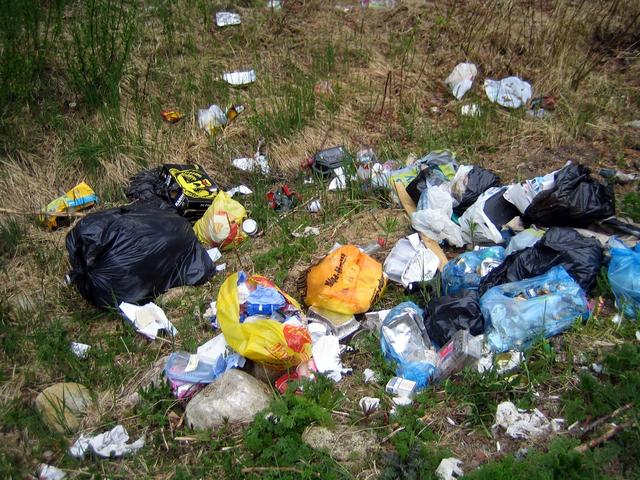garbage: (409, 184, 591, 333), (223, 283, 446, 366)
